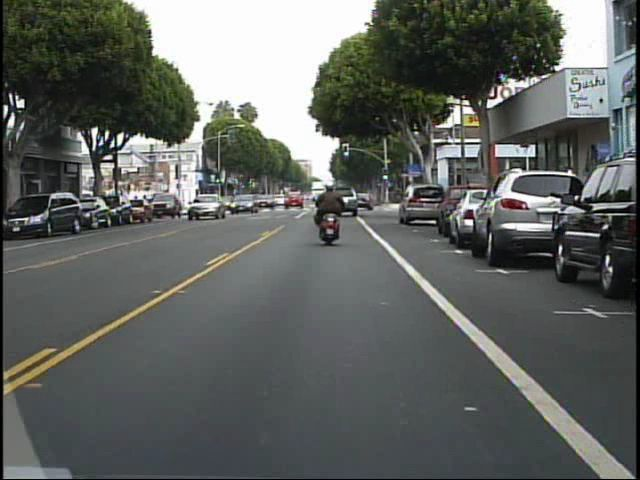person: (313, 177, 353, 246)
